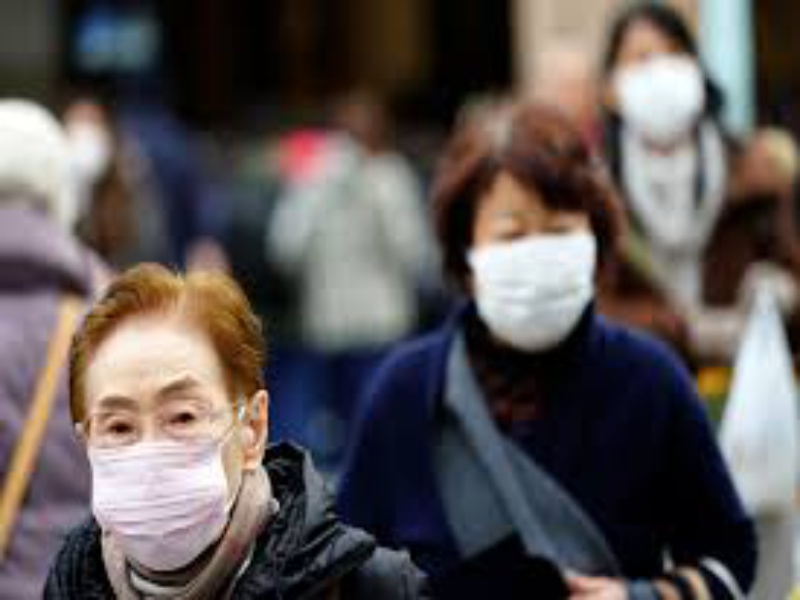ManaoArotava: (50, 309, 254, 578), (431, 129, 614, 366)
